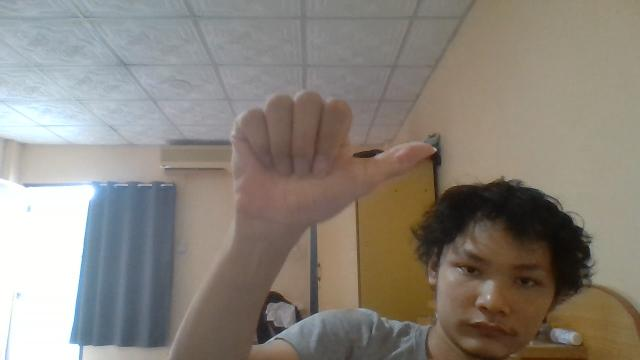left: (228, 88, 438, 238)
